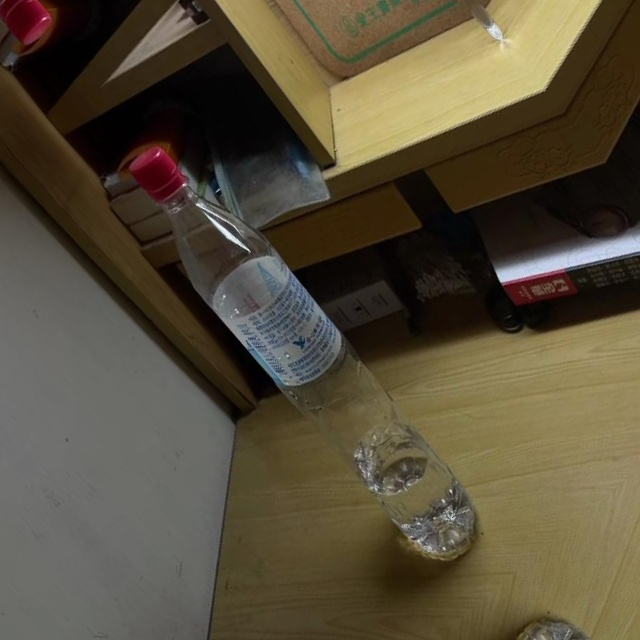Water: (107, 128, 504, 579)
